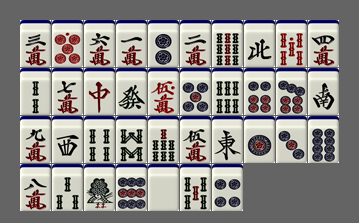0m: (148, 68, 179, 115)
0p: (52, 20, 83, 67)
0s: (276, 20, 307, 67)
1m: (116, 20, 147, 67)
1p: (244, 116, 275, 163)
1s: (84, 164, 115, 211)
1z: (212, 116, 243, 163)
2m: (180, 20, 211, 67)
2p: (148, 20, 179, 67)
2s: (20, 68, 51, 115)
2z: (308, 68, 339, 115)
3m: (20, 20, 51, 67)
3p: (276, 116, 307, 163)
3s: (52, 164, 83, 211)
3z: (52, 116, 83, 163)
4m: (308, 20, 339, 67)
4p: (212, 164, 243, 211)
4s: (84, 116, 115, 163)
4z: (244, 20, 275, 67)
5m: (180, 116, 211, 163)
5p: (180, 68, 211, 115)
5s: (180, 164, 211, 211)
5z: (148, 164, 179, 211)
6m: (84, 20, 115, 67)
6p: (244, 68, 275, 115)
6s: (212, 68, 243, 115)
6z: (116, 68, 147, 115)
7m: (52, 68, 83, 115)
7p: (276, 68, 307, 115)
7s: (148, 116, 179, 163)
7z: (84, 68, 115, 115)
8m: (20, 164, 51, 211)
8p: (308, 116, 339, 163)
8s: (116, 116, 147, 163)
9m: (20, 116, 51, 163)
9p: (116, 164, 147, 211)
9s: (212, 20, 243, 67)
